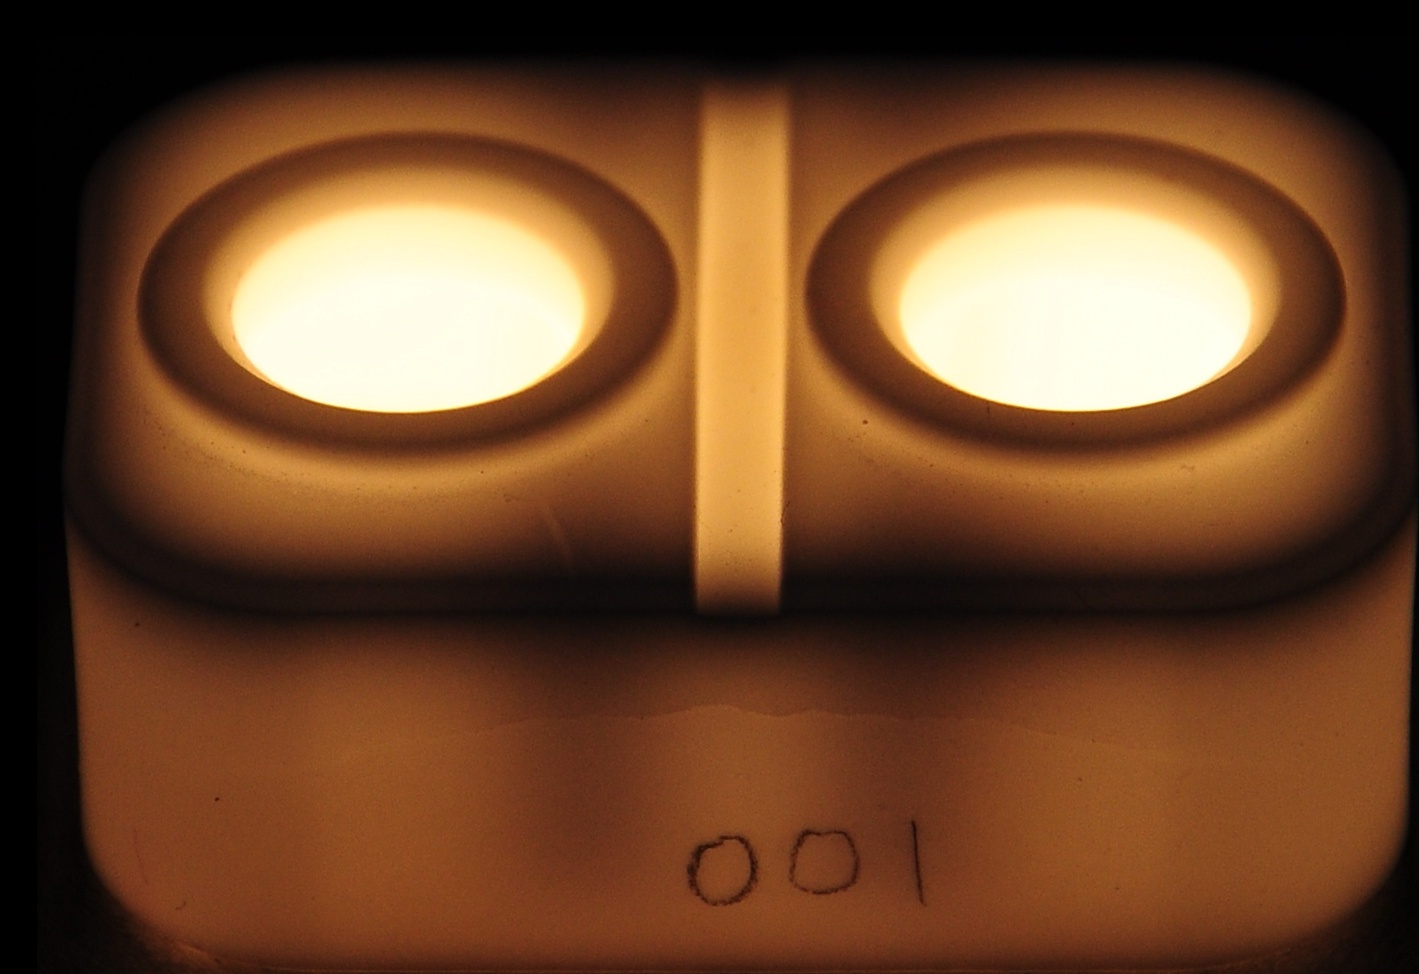flaw: (251, 689, 1333, 815)
protrusion: (858, 413, 877, 435)
